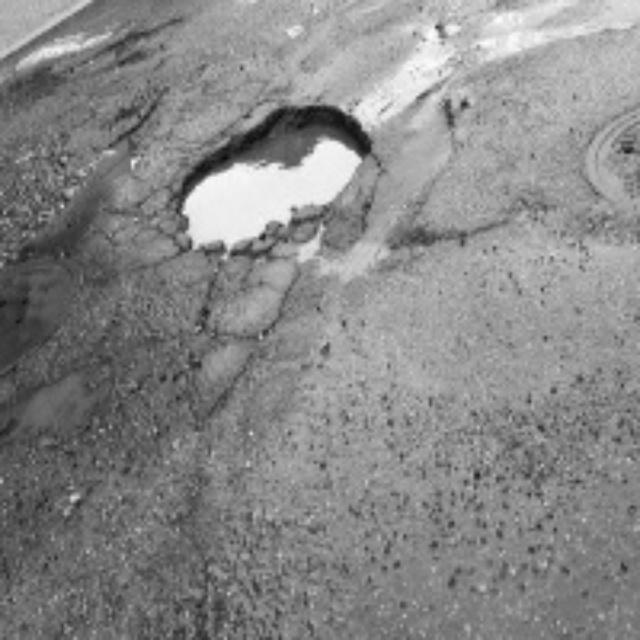Pothole: (187, 85, 337, 240)
